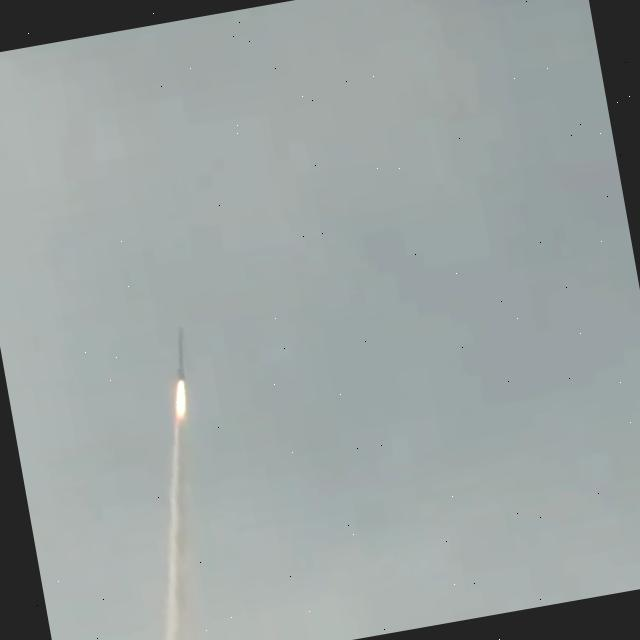rocket: (175, 327, 186, 383)
smoke_trail_with_rocket: (161, 329, 189, 640)
